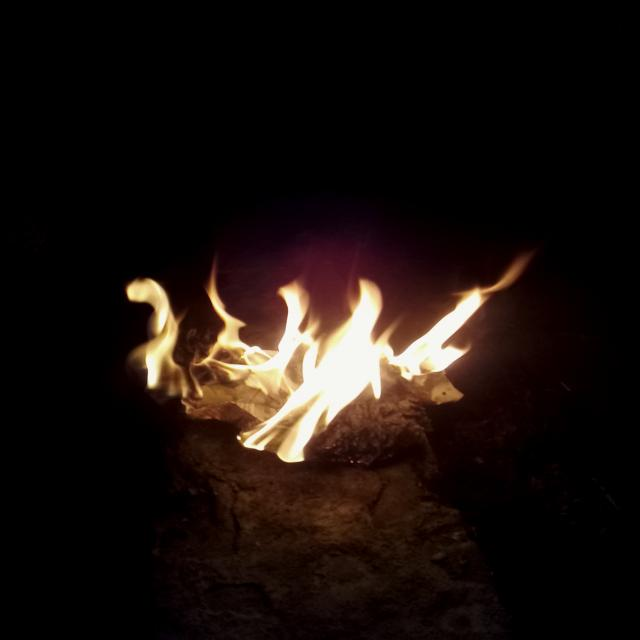firerotation: (118, 246, 538, 464)
